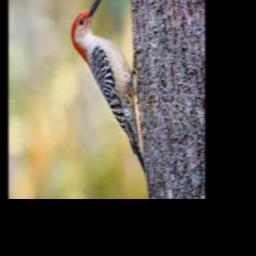Woodpecker: (71, 0, 147, 175)
